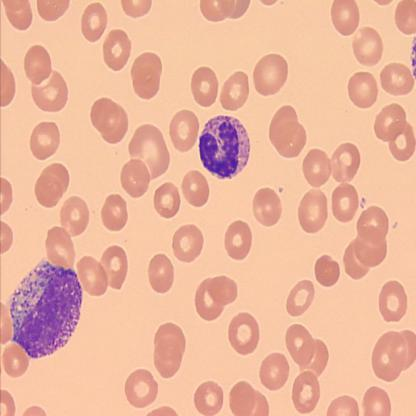Myelocyte: (13, 262, 82, 360), (200, 115, 251, 180)
